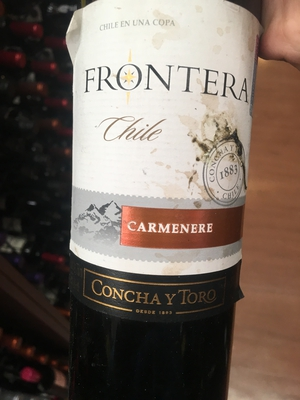frontera carmenere: (61, 9, 262, 399)
